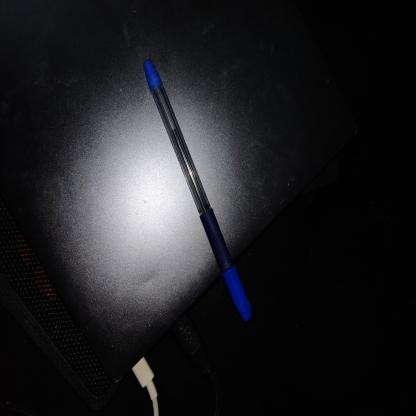Pen: (138, 54, 286, 372)
